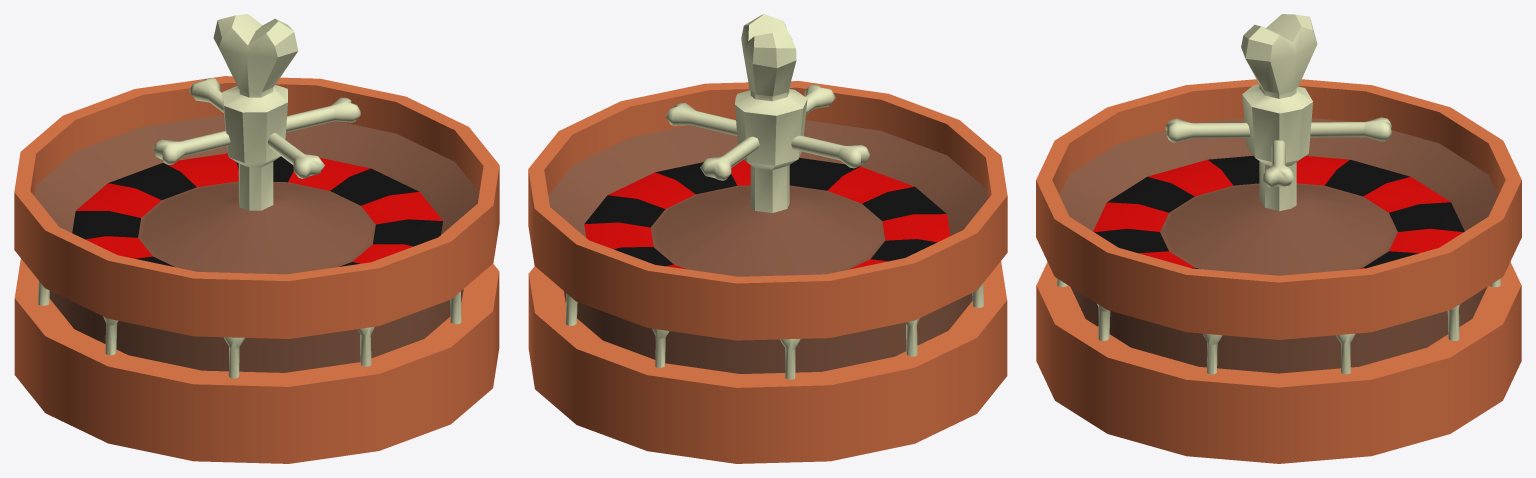
Rendered from RuletaPisov02.fbx.
3 renders of one model, left to right at view 1: azimuth 30°, elevation 25°; view 2: azimuth 150°, elevation 25°; view 3: azimuth 270°, elevation 25°, orthographic.
Visible parts, largest first — view 1: RuletaPiso; view 2: RuletaPiso; view 3: RuletaPiso.
Part boxes in pixels (x1,y1,x2,y2): RuletaPiso: (14,14,499,463); RuletaPiso: (528,14,1007,463); RuletaPiso: (1036,14,1521,463).
Size of the model in its own units: 1 by 0.7748 by 1.
